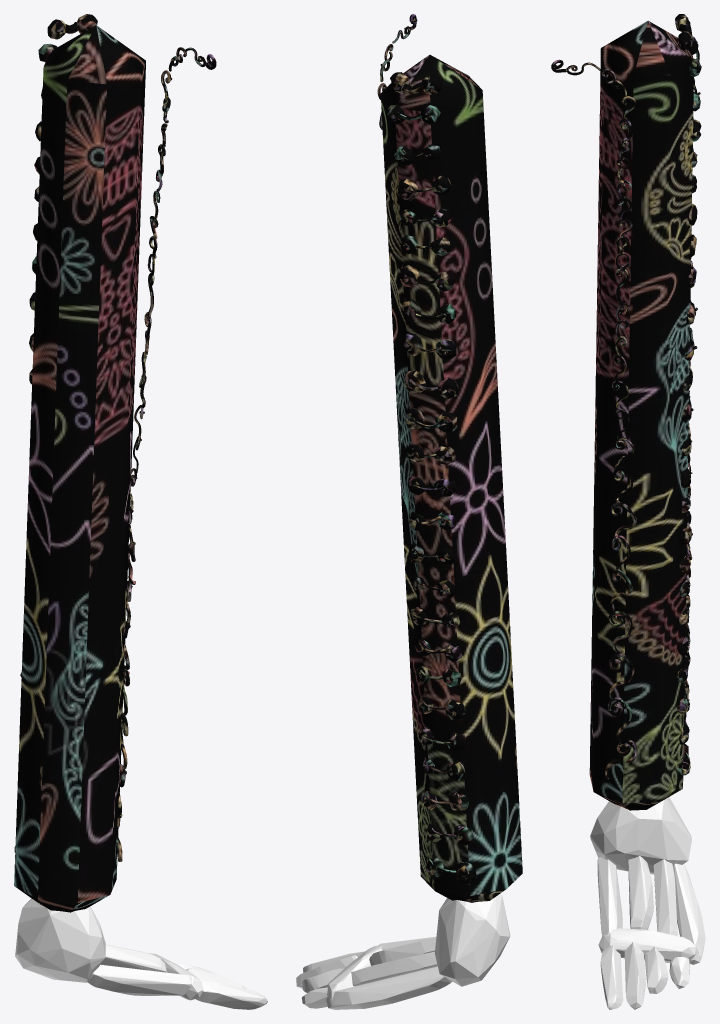
File: pierna-iz.obj
3 views of the same model, side by side, from view 1: azimuth 30°, elevation 25°; view 2: azimuth 150°, elevation 25°; view 3: azimuth 270°, elevation 25° (orthographic). The views are drawn at different scales.
Parts seen in each view (by area): view 1: Object_13.004, Object_7.004; view 2: Object_13.004, Object_7.004; view 3: Object_13.004, Object_7.004.
Part boxes in pixels (x1=…): Object_13.004: x1=14, y1=14, x2=216, y2=912; Object_7.004: x1=15, y1=898, x2=267, y2=1009; Object_13.004: x1=377, y1=14, x2=522, y2=902; Object_7.004: x1=296, y1=893, x2=510, y2=1009; Object_13.004: x1=551, y1=14, x2=701, y2=810; Object_7.004: x1=590, y1=797, x2=705, y2=1009.
Bounding box in the file's own units: 0.1961 × 0.8111 × 0.1225.
2 materials, 2 textured.
